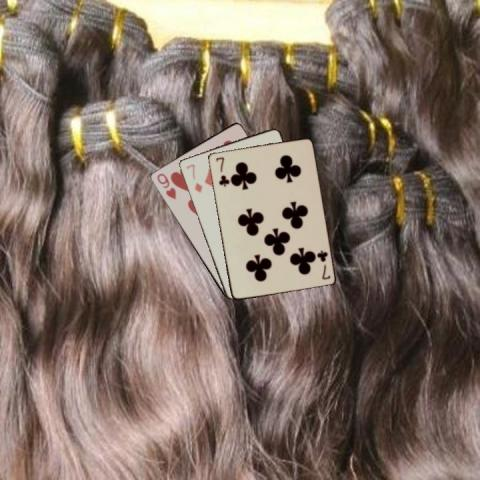7c: (314, 247, 332, 281), (212, 154, 228, 188)
7d: (184, 161, 204, 194)
9h: (154, 170, 178, 201)
